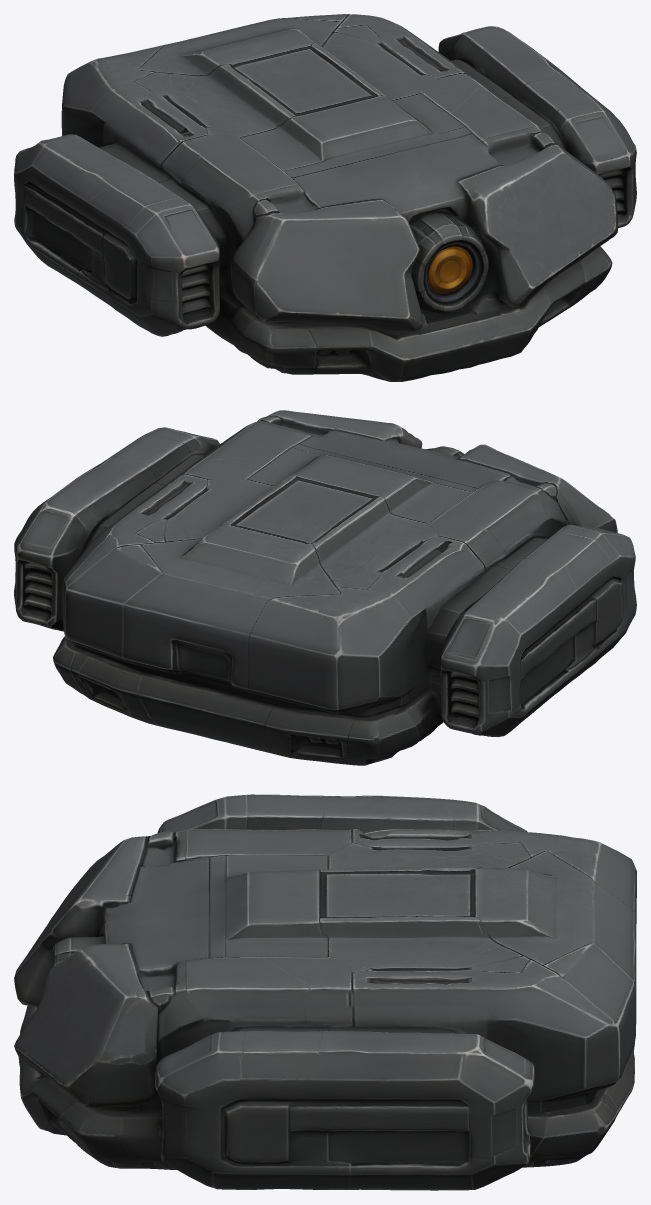
File: futuristic_drone_3d_model.fbx
3 renders of one model, top to bottom at view 1: azimuth 30°, elevation 25°; view 2: azimuth 150°, elevation 25°; view 3: azimuth 270°, elevation 25°, orthographic. The views are drawn at different scales.
Parts seen in each view (by area): view 1: tripo_node_4df151b0; view 2: tripo_node_4df151b0; view 3: tripo_node_4df151b0.
Boxes of the visible parts, x1,y1,x2,y2 form: tripo_node_4df151b0: (14, 14, 636, 381); tripo_node_4df151b0: (14, 410, 636, 765); tripo_node_4df151b0: (14, 794, 636, 1190).
Bounding box in the file's own units: 98 × 33.27 × 92.25.
Materials: 1 (1 with a texture image).
